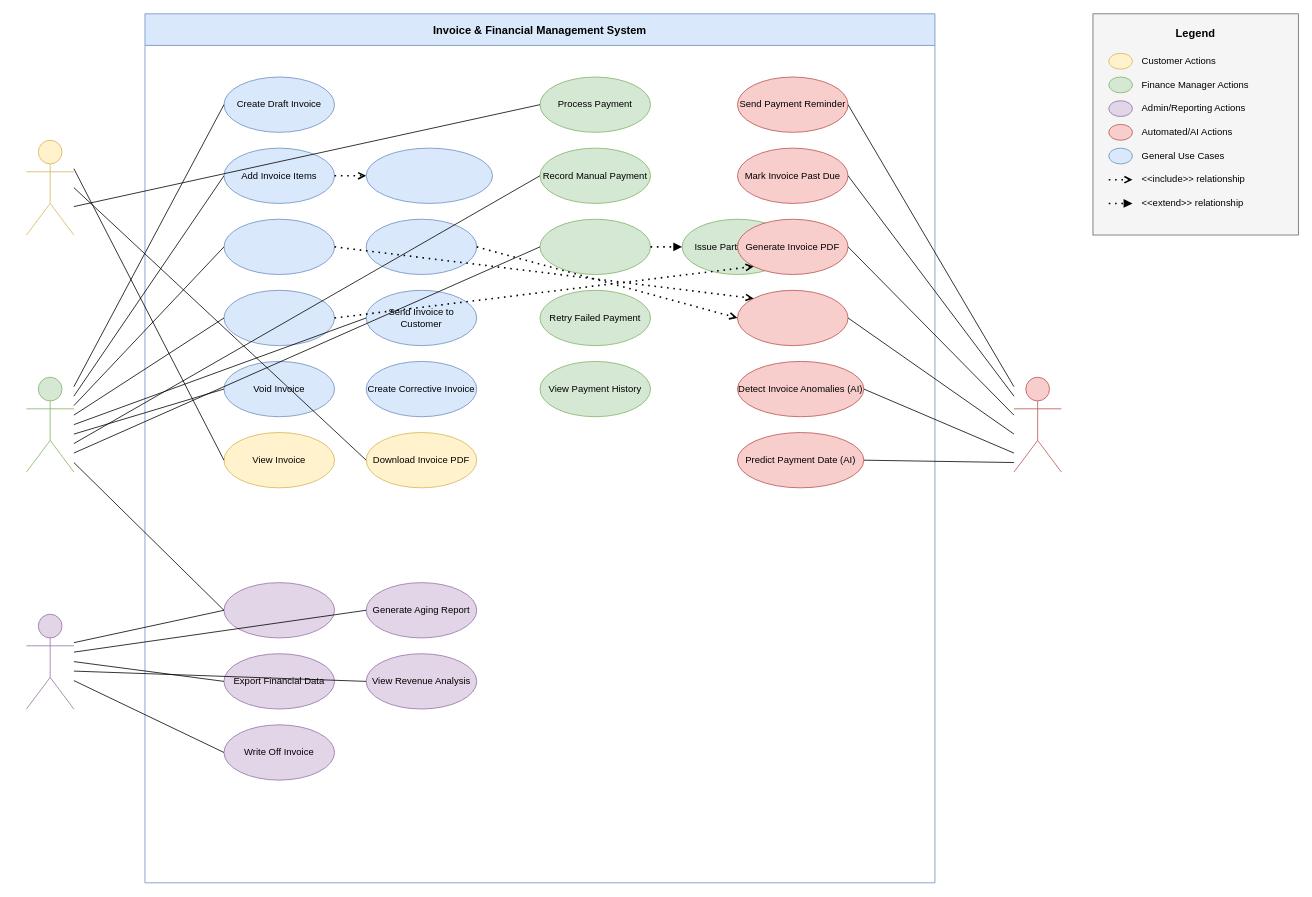
Some shapes in this 1312 by 897 pixel diagram are drawn without their labels. Each missing label, with the centre of its shape:
Add Fee Sources\n(Staff, Prizes, Equipment): point 429,175
Administrator: point 50,661
Apply Discount: point 279,246
Calculate Tax: point 421,246
Customer: point 50,187
Finalize Invoice: point 279,318
Finance Manager: point 50,424
Recalculate Invoice Totals: point 792,318
Refund Payment: point 595,246
System: point 1037,424
View Financial Dashboard: point 279,610
